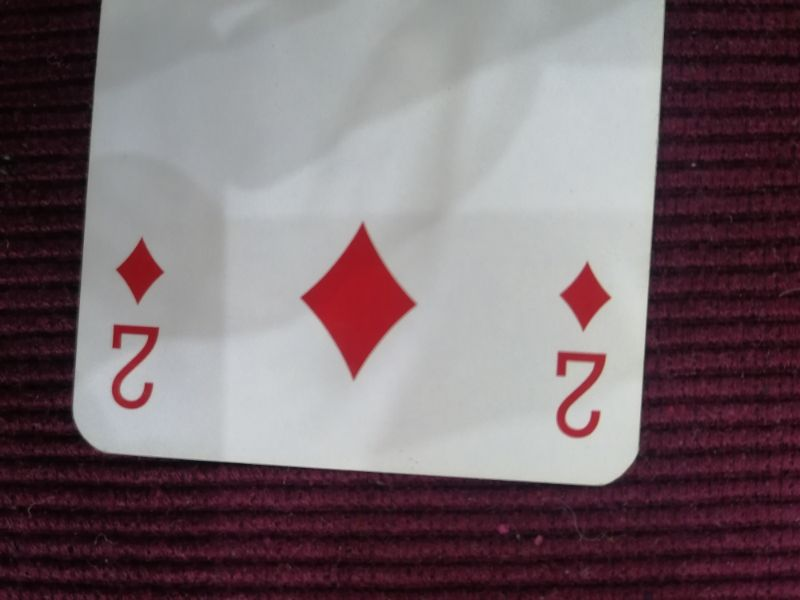2d: (549, 255, 616, 447), (106, 230, 170, 414)
